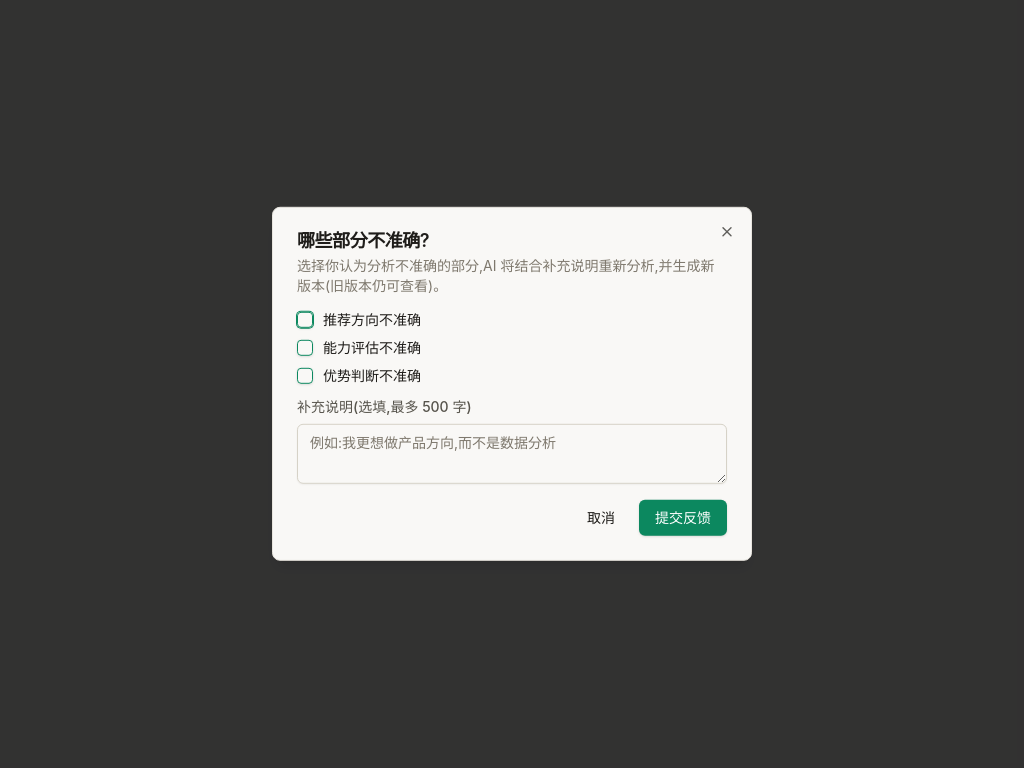
Test: CorrectionDialog › 未选择任何部分提交:拦截并提示
This screenshot has width=1024, height=768.
Click the button "提交反馈" at (683, 518), box [639, 500, 727, 536]
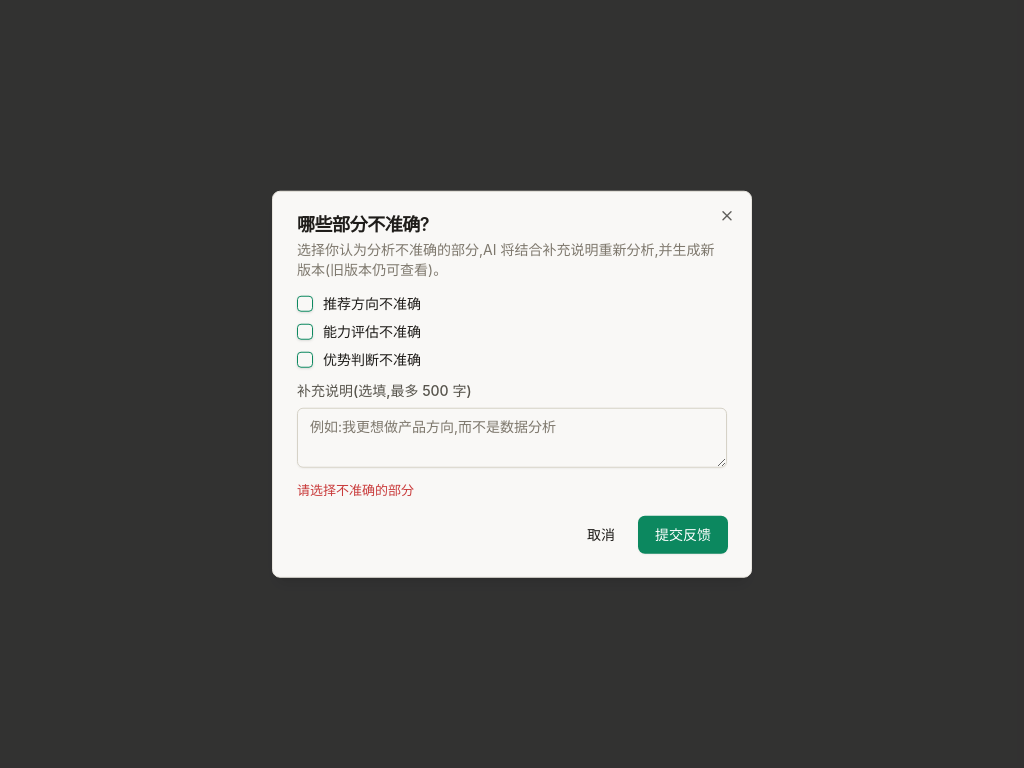
Result: the message reads "请选择不准确的部分" at [297, 482, 414, 498]
